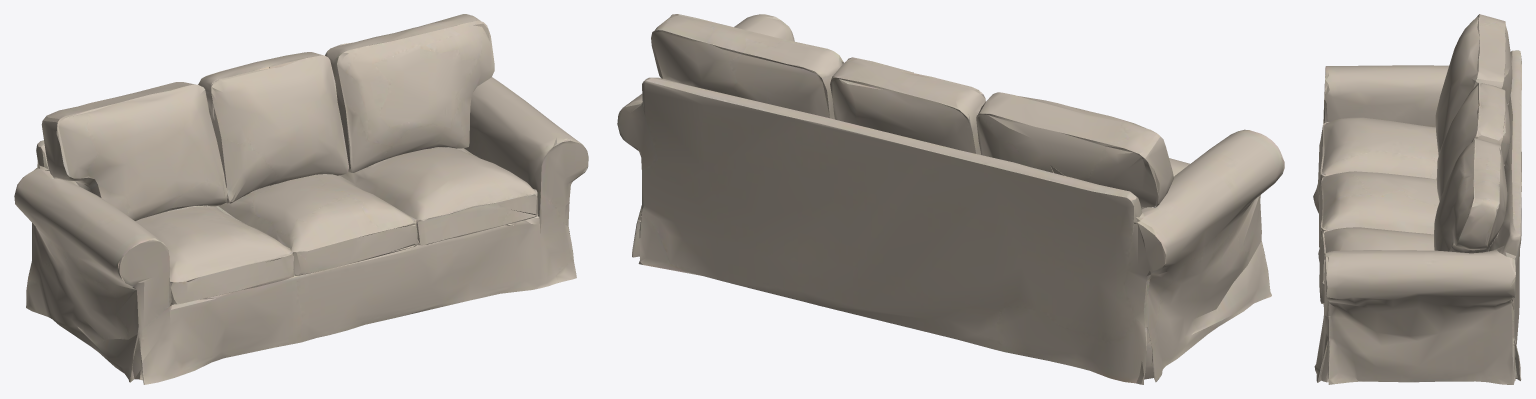
The model's file is 05 - EKTORP - 三人座沙發，Kilanda 淺米色 IKEA 線上購物.glb.
3 views of the same model, side by side, from view 1: azimuth 30°, elevation 25°; view 2: azimuth 150°, elevation 25°; view 3: azimuth 270°, elevation 25° (orthographic). The views are drawn at different scales.
Parts seen in each view (by area): view 1: ProcessedMeshNode; view 2: ProcessedMeshNode; view 3: ProcessedMeshNode.
Boxes of the visible parts, x1=… form: ProcessedMeshNode: x1=14, y1=14, x2=588, y2=384; ProcessedMeshNode: x1=617, y1=14, x2=1284, y2=384; ProcessedMeshNode: x1=1313, y1=14, x2=1521, y2=384.
Bounding box in the file's own units: 2.19 × 0.9126 × 0.9266.
Materials: 1 (1 with a texture image).
